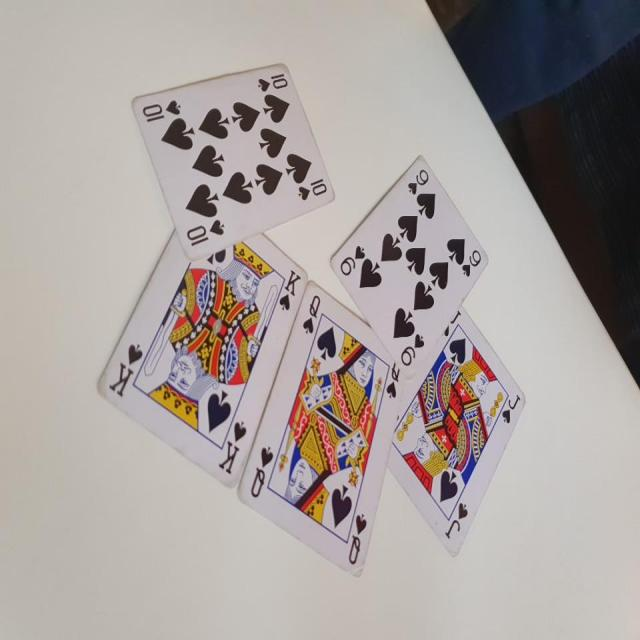10 Spades: (130, 55, 339, 264)
9 Spades: (325, 149, 492, 386)
J Spades: (382, 305, 535, 572)
K Spades: (92, 200, 308, 500)
Q Spades: (237, 283, 406, 586)
